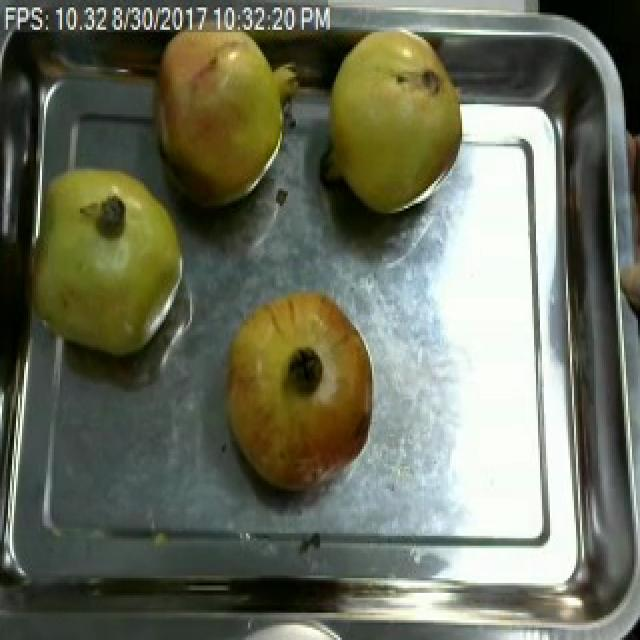fruit: (210, 275, 380, 501), (22, 156, 196, 370), (142, 10, 310, 218), (318, 20, 472, 226)
